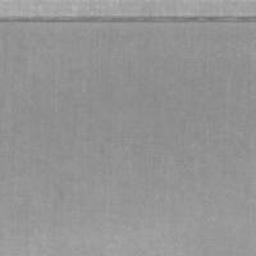Welding line: (0, 16, 256, 23)
